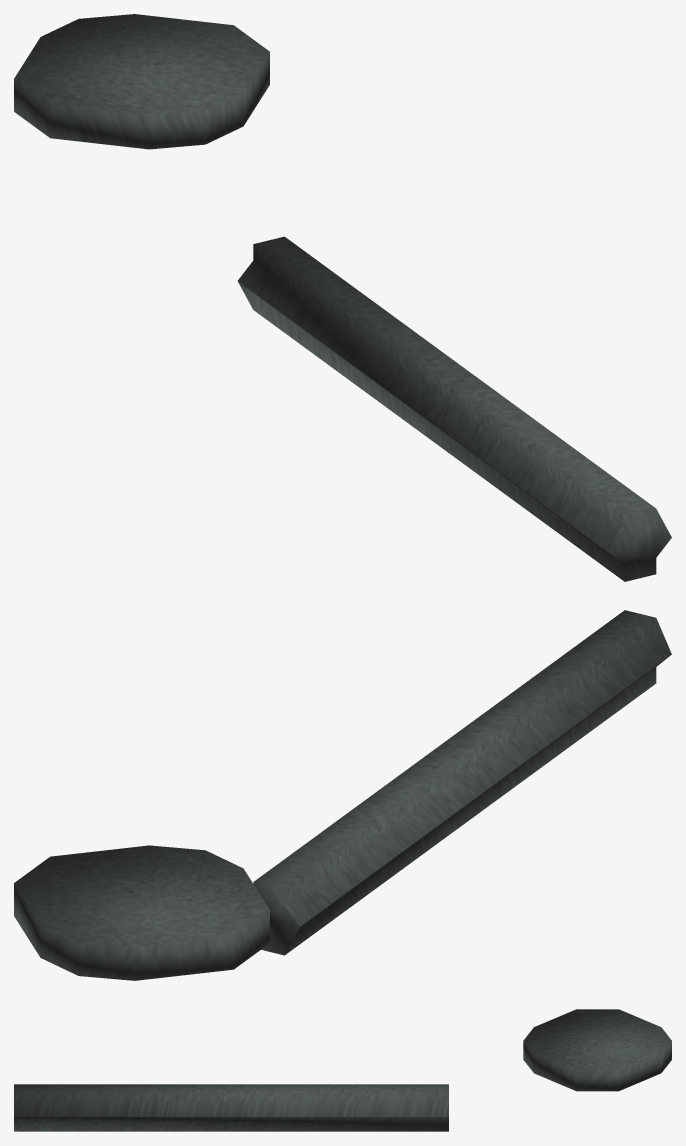
3 views of the same model, one above another, from view 1: azimuth 30°, elevation 25°; view 2: azimuth 150°, elevation 25°; view 3: azimuth 270°, elevation 25° (orthographic). The views are drawn at different scales.
Bounding box in the file's own units: 0.7 × 0.45 × 3.1.
1 material, 1 textured.
